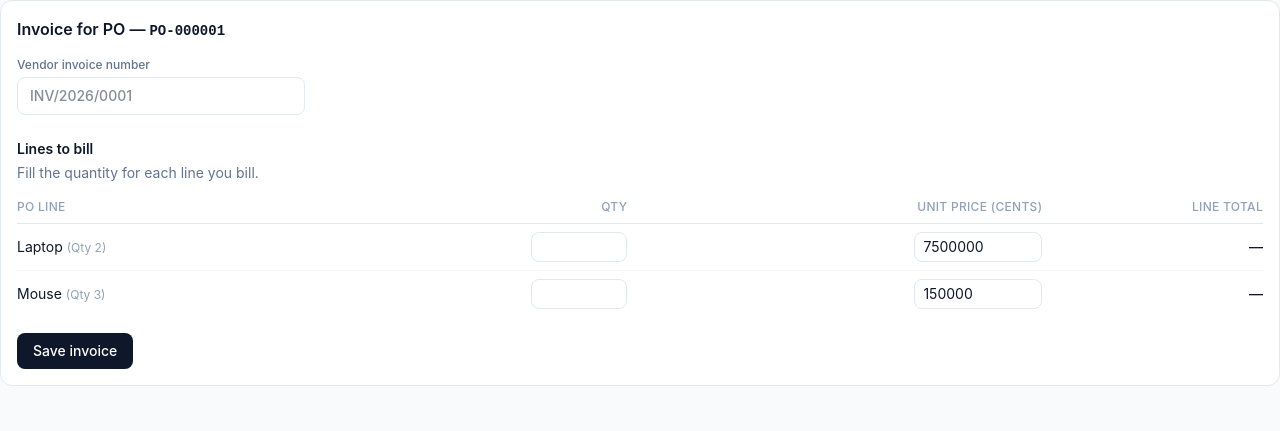
Scenario: InvoiceForm › maps another machine code (409 inv_number_duplicate) inline
The width and height of the screenshot is (1280, 431).
Type "INV-1" into the field with test id "invoice-number" at (161, 96), box [17,77,305,115]
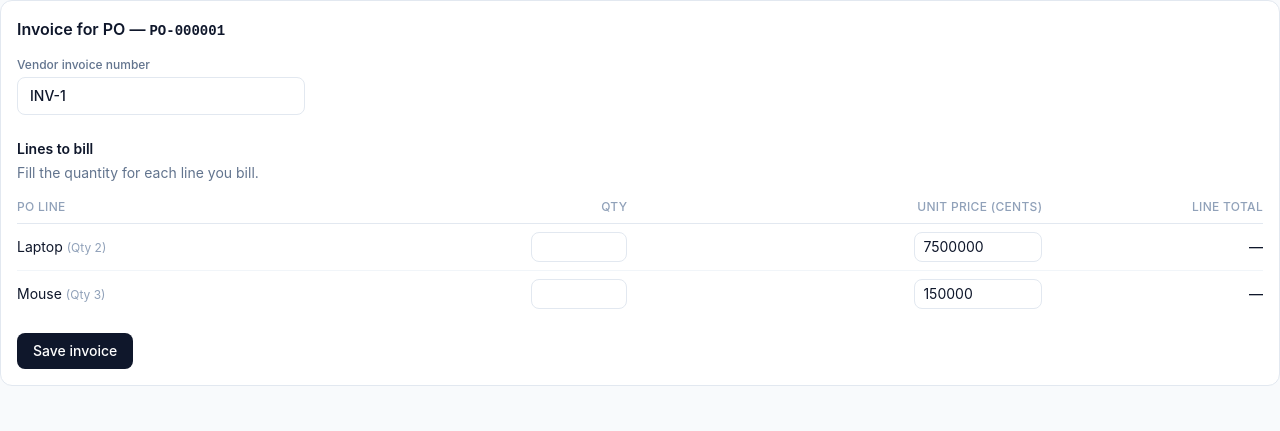
Type "1" into the number field with test id "invoice-qty-po-item-1" at (579, 247), box [531,232,627,262]
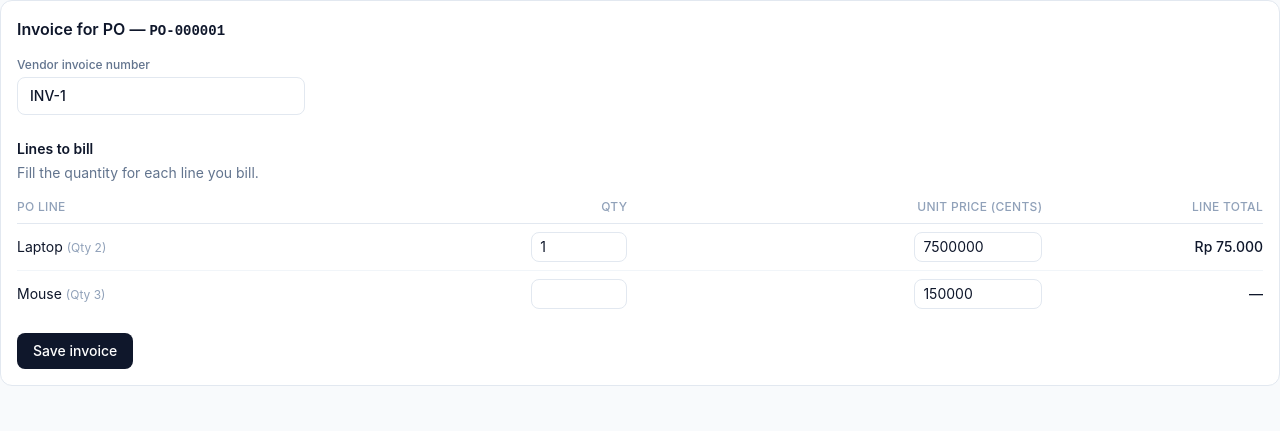
Click the button with test id "invoice-submit" at (75, 351), box [17,333,133,369]
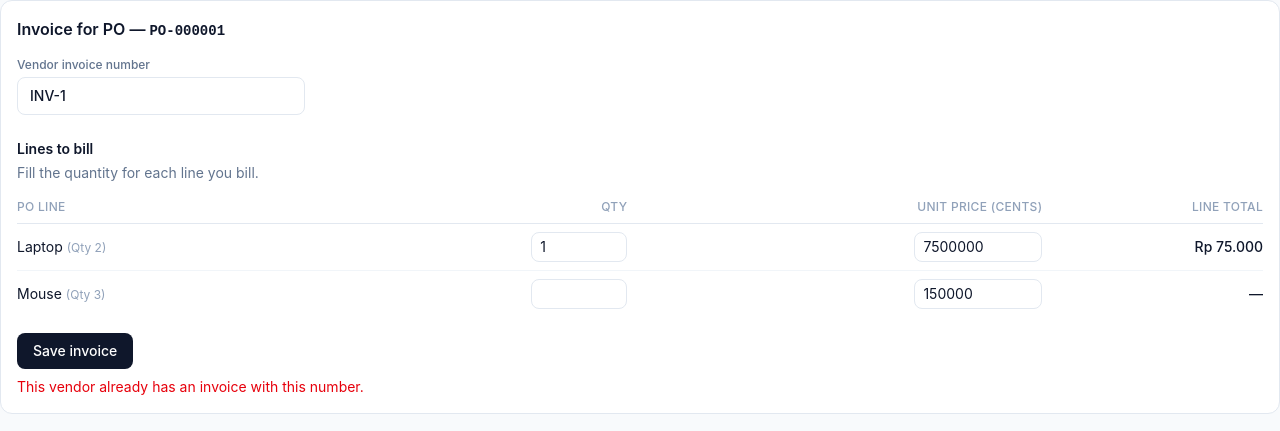
Result: the message with test id "invoice-form-error" reads "This vendor already has an invoice with this number." at [17,378,364,395]
